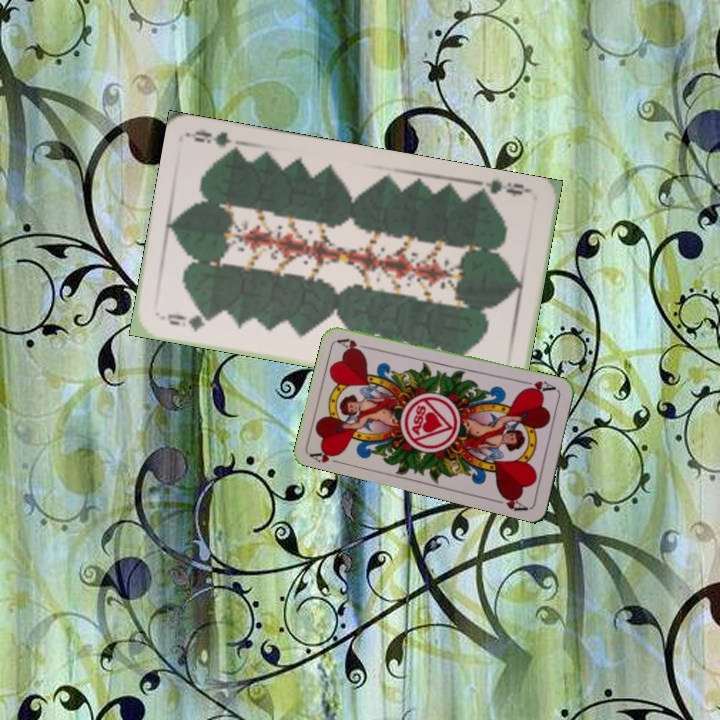G9: (474, 175, 535, 202), (157, 309, 217, 334)
HA: (307, 445, 348, 467), (519, 377, 560, 396)
